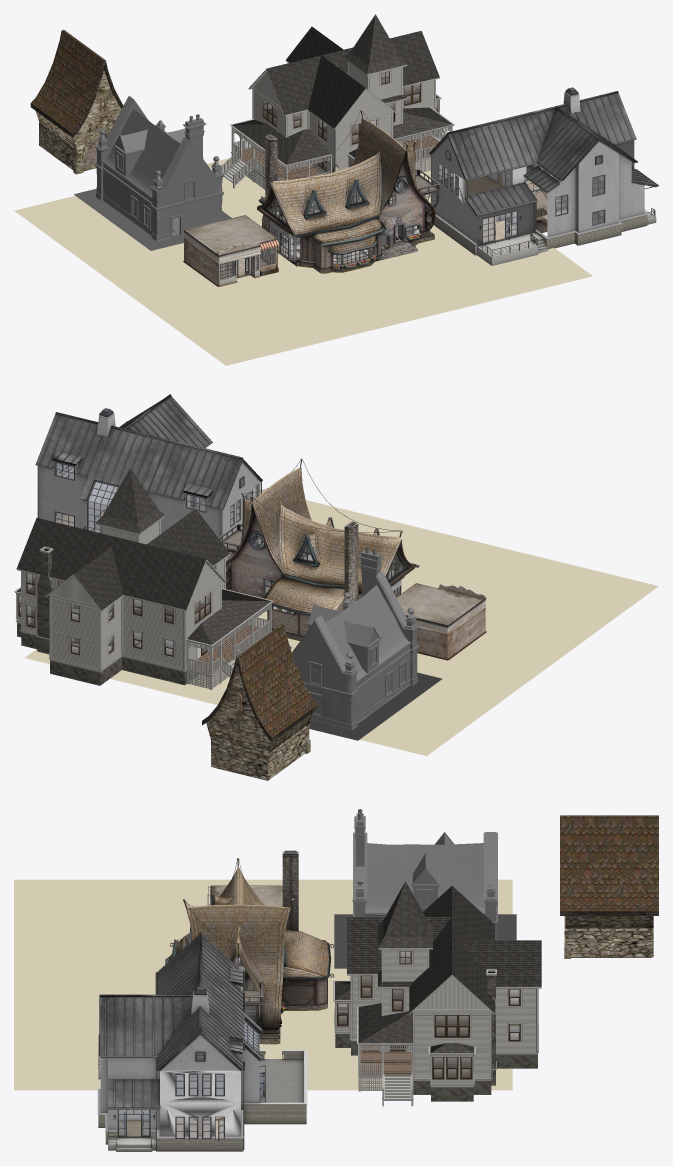
The picture shows the model from 3 angles, top to bottom: view 1: azimuth 30°, elevation 25°; view 2: azimuth 150°, elevation 25°; view 3: azimuth 270°, elevation 25°; orthographic projection. The views are drawn at different scales.
Parts seen in each view (by area): view 1: Terrain 5,2, prim0-mesh (×13), Bates Home Structure (×8), ROOST - York Vale House#59, ROOST - York Vale House#71, Bates Home Walls (×4), Chaumiere Saraneth 2, Vintage Bakery, Grange Saraneth_mesh, ROOST - York Vale House#168, ROOST - York Vale House#63, dust bunny . vintage bakery (×3) (+10 smaller); view 2: Terrain 5,2, prim0-mesh (×11), Bates Home Structure (×8), Bates Home Walls (×5), Grange Saraneth_mesh, Chaumiere Saraneth 2, Vintage Bakery, ROOST - York Vale House#113, ROOST - York Vale House#73, ROOST - York Vale House#106, ROOST - York Vale House#168, ROOST - York Vale House#198 (+4 smaller); view 3: Terrain 5,2, Bates Home Structure (×12), prim0-mesh (×9), Chaumiere Saraneth 2, Bates Home Walls (×4), ROOST - York Vale House#228, ROOST - York Vale House#108, Grange Saraneth_mesh, ROOST - York Vale House#182, ROOST - York Vale House#71, ROOST - York Vale House#175, ROOST - York Vale House#73 (+13 smaller).
Part boxes in pixels (x1,y1,x2,y2): Terrain 5,2: (14,158,592,365); prim0-mesh (×13): (74,96,439,273); Bates Home Structure (×8): (230,14,454,189); ROOST - York Vale House#59: (547,141,644,237); ROOST - York Vale House#71: (447,108,555,179); Bates Home Walls (×4): (252,67,403,174); Chaumiere Saraneth 2: (31,30,121,133); Vintage Bakery: (184,215,277,285); Grange Saraneth_mesh: (30,32,123,174); ROOST - York Vale House#168: (537,108,599,180); ROOST - York Vale House#63: (431,137,476,243); dust bunny . vintage bakery (×3): (183,215,279,286); Terrain 5,2: (25,489,658,755); prim0-mesh (×11): (226,458,442,740); Bates Home Structure (×8): (15,468,273,689); Bates Home Walls (×5): (21,562,221,670); Grange Saraneth_mesh: (202,626,318,780); Chaumiere Saraneth 2: (204,624,317,737); Vintage Bakery: (397,583,485,658); ROOST - York Vale House#113: (146,441,242,509); ROOST - York Vale House#73: (79,427,165,500); ROOST - York Vale House#106: (36,414,103,475); ROOST - York Vale House#168: (126,396,211,447); ROOST - York Vale House#198: (38,460,87,528); Terrain 5,2: (14,879,512,1090); Bates Home Structure (×12): (334,881,541,1101); prim0-mesh (×9): (165,809,516,1044); Chaumiere Saraneth 2: (560,815,658,911); Bates Home Walls (×4): (350,949,538,1078); ROOST - York Vale House#228: (160,1034,240,1136); ROOST - York Vale House#108: (99,996,192,1055); Grange Saraneth_mesh: (560,816,658,958); ROOST - York Vale House#182: (259,1059,303,1102); ROOST - York Vale House#71: (157,935,198,994); ROOST - York Vale House#175: (107,1079,160,1107); ROOST - York Vale House#73: (202,975,261,1060).
Size of what is drawn, in the model's own units: 82.68 by 25.63 by 82.77.
Materials: 417 (415 with a texture image).
